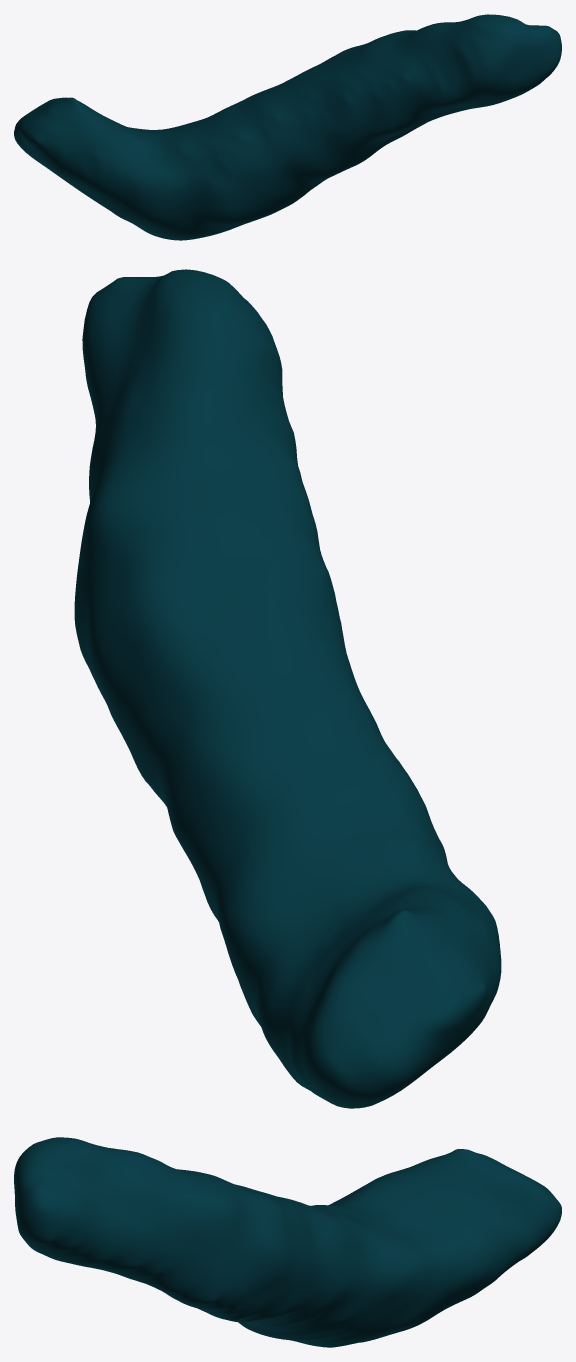
The model's file is left brachiocephalic vein.obj.
3 renders of one model, top to bottom at view 1: azimuth 30°, elevation 25°; view 2: azimuth 150°, elevation 25°; view 3: azimuth 270°, elevation 25°, orthographic. The views are drawn at different scales.
Visible parts, largest first — view 1: grp1; view 2: grp1; view 3: grp1.
Boxes of the visible parts, x1=… form: grp1: x1=14, y1=14, x2=561, y2=240; grp1: x1=74, y1=269, x2=501, y2=1108; grp1: x1=14, y1=1137, x2=561, y2=1347.
Size of the model in its own units: 61.42 by 40.96 by 63.71.
